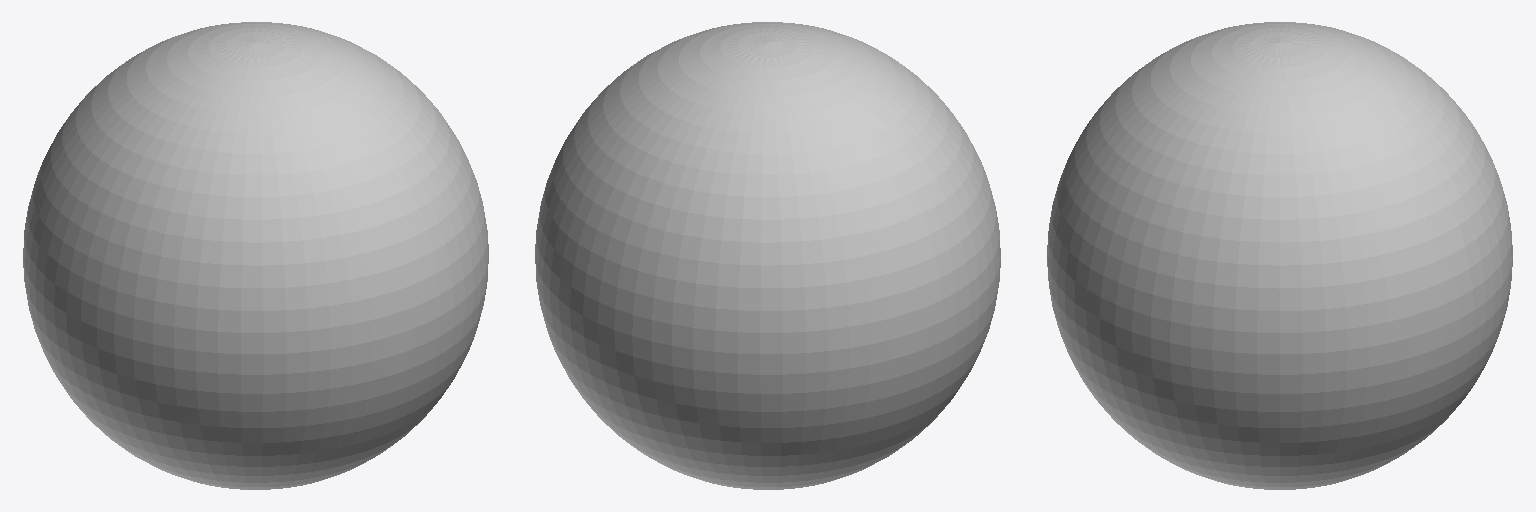
The model's file is skyball.obj.
The picture shows the model from 3 angles: view 1: azimuth 30°, elevation 25°; view 2: azimuth 150°, elevation 25°; view 3: azimuth 270°, elevation 25°; orthographic projection.
Parts seen in each view (by area): view 1: SKYBOX.002; view 2: SKYBOX.002; view 3: SKYBOX.002.
Boxes of the visible parts, <box> form: SKYBOX.002: <box>23,22,488,489</box>; SKYBOX.002: <box>535,22,1000,489</box>; SKYBOX.002: <box>1047,22,1512,489</box>.
Bounding box in the file's own units: 1974 × 1995 × 1974.